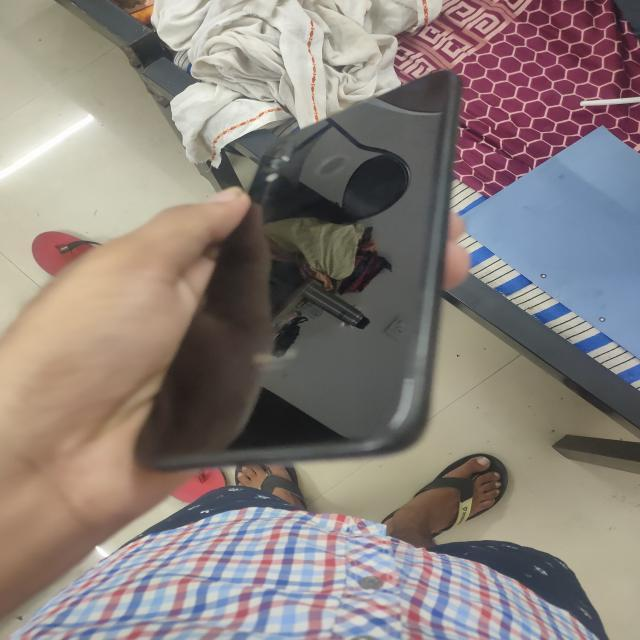Phone: (131, 66, 467, 471)
